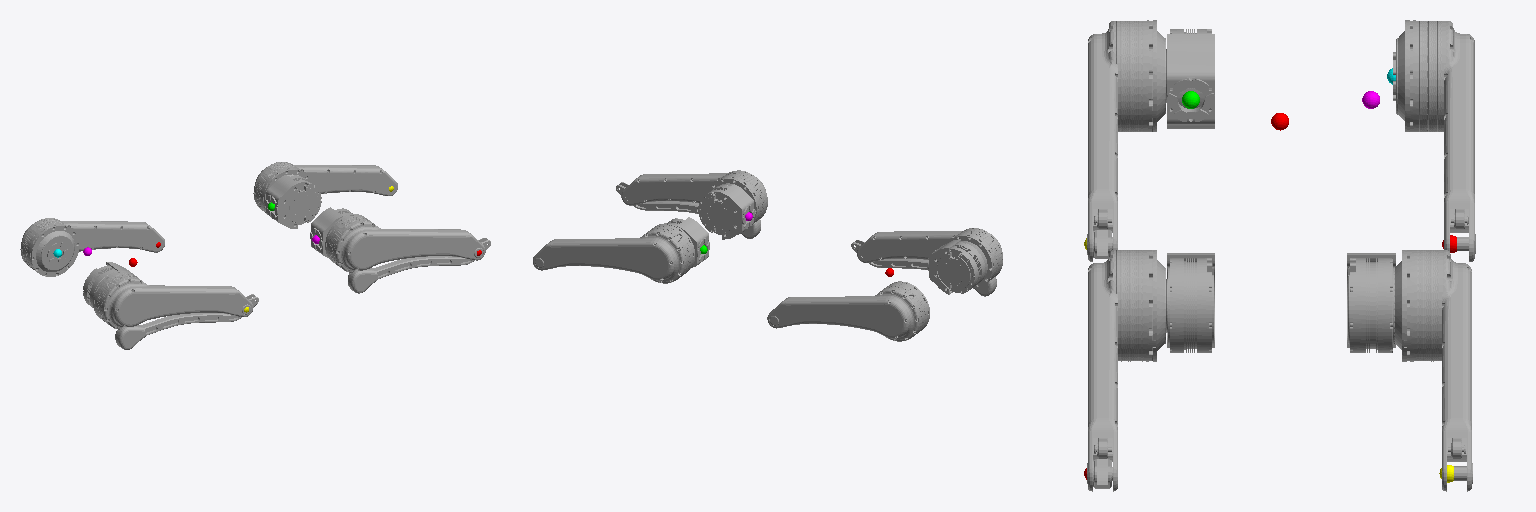
The robot description file, URDF, robot "urdf_assembly_v3_with_debug":
<?xml version="1.0" ?>
<robot name="urdf_assembly_v3_with_debug">
  
  
  <material name="silver">
    
    
    <color rgba="0.700 0.700 0.700 1.000"/>
    
  
  </material>
  
  
  <link name="trunk">
    
    
    <inertial>
      
      
      <origin rpy="0 0 0" xyz="0.1800021613389532 0.0011059001342642709 0.0032914802932821853"/>
      
      
      <mass value="14.375726822970043"/>
      
      
      <inertia ixx="0.191138" ixy="-3.4e-05" ixz="-2e-06" iyy="0.40265" iyz="-0.0" izz="0.515858"/>
      
    
    </inertial>
    
    
    <visual>
      
      
      <origin rpy="0 0 0" xyz="0 0 0"/>
      
      
      <geometry>
        
        
        <mesh filename="meshes/trunk.stl" scale="0.001 0.001 0.001"/>
        
      
      </geometry>
      
      
      <material name="silver"/>
      
    
    </visual>
    
    
    <collision>
      
      
      <origin rpy="0 0 0" xyz="0 0 0"/>
      
      
      <geometry>
        
        
        <mesh filename="meshes/trunk.stl" scale="0.001 0.001 0.001"/>
        
      
      </geometry>
      
    
    </collision>
    
  
  </link>
  
  
  <link name="FL_hip">
    
    
    <inertial>
      
      
      <origin rpy="0 0 0" xyz="-0.04712748510646356 0.0003722506842882972 -2.7333568612490904e-06"/>
      
      
      <mass value="1.4229579632997589"/>
      
      
      <inertia ixx="0.001778" ixy="1e-05" ixz="-0.0" iyy="0.002877" iyz="0.0" izz="0.002097"/>
      
    
    </inertial>
    
    
    <visual>
      
      
      <origin rpy="0 0 0" xyz="0.059 0.098894 0.00113"/>
      
      
      <geometry>
        
        
        <mesh filename="meshes/FL_hip.stl" scale="0.001 0.001 0.001"/>
        
      
      </geometry>
      
      
      <material name="silver"/>
      
    
    </visual>
    
    
    <collision>
      
      
      <origin rpy="0 0 0" xyz="0.059 0.098894 0.00113"/>
      
      
      <geometry>
        
        
        <mesh filename="meshes/FL_hip.stl" scale="0.001 0.001 0.001"/>
        
      
      </geometry>
      
    
    </collision>
    
  
  </link>
  
  
  <link name="RL_hip">
    
    
    <inertial>
      
      
      <origin rpy="0 0 0" xyz="0.047127485106463585 0.0003722506842885609 2.1944325753497397e-06"/>
      
      
      <mass value="1.4229579632997589"/>
      
      
      <inertia ixx="0.001778" ixy="-1e-05" ixz="-0.0" iyy="0.002877" iyz="-0.0" izz="0.002097"/>
      
    
    </inertial>
    
    
    <visual>
      
      
      <origin rpy="0 0 0" xyz="-0.419 0.098894 0.00113"/>
      
      
      <geometry>
        
        
        <mesh filename="meshes/RL_hip.stl" scale="0.001 0.001 0.001"/>
        
      
      </geometry>
      
      
      <material name="silver"/>
      
    
    </visual>
    
    
    <collision>
      
      
      <origin rpy="0 0 0" xyz="-0.419 0.098894 0.00113"/>
      
      
      <geometry>
        
        
        <mesh filename="meshes/RL_hip.stl" scale="0.001 0.001 0.001"/>
        
      
      </geometry>
      
    
    </collision>
    
  
  </link>
  
  
  <link name="RR_hip">
    
    
    <inertial>
      
      
      <origin rpy="0 0 0" xyz="0.047127485106463585 -0.00037238356285085317 -2.7333568615806395e-06"/>
      
      
      <mass value="1.4229579632997589"/>
      
      
      <inertia ixx="0.001778" ixy="1e-05" ixz="0.0" iyy="0.002877" iyz="-0.0" izz="0.002097"/>
      
    
    </inertial>
    
    
    <visual>
      
      
      <origin rpy="0 0 0" xyz="-0.419 -0.101106 0.00113"/>
      
      
      <geometry>
        
        
        <mesh filename="meshes/RR_hip.stl" scale="0.001 0.001 0.001"/>
        
      
      </geometry>
      
      
      <material name="silver"/>
      
    
    </visual>
    
    
    <collision>
      
      
      <origin rpy="0 0 0" xyz="-0.419 -0.101106 0.00113"/>
      
      
      <geometry>
        
        
        <mesh filename="meshes/RR_hip.stl" scale="0.001 0.001 0.001"/>
        
      
      </geometry>
      
    
    </collision>
    
  
  </link>
  
  
  <link name="FR_hip">
    
    
    <inertial>
      
      
      <origin rpy="0 0 0" xyz="-0.047127485106463377 -0.0003723835628505895 2.1944325754588104e-06"/>
      
      
      <mass value="1.4229579632997589"/>
      
      
      <inertia ixx="0.001778" ixy="-1e-05" ixz="0.0" iyy="0.002877" iyz="0.0" izz="0.002097"/>
      
    
    </inertial>
    
    
    <visual>
      
      
      <origin rpy="0 0 0" xyz="0.059 -0.101106 0.00113"/>
      
      
      <geometry>
        
        
        <mesh filename="meshes/FR_hip.stl" scale="0.001 0.001 0.001"/>
        
      
      </geometry>
      
      
      <material name="silver"/>
      
    
    </visual>
    
    
    <collision>
      
      
      <origin rpy="0 0 0" xyz="0.059 -0.101106 0.00113"/>
      
      
      <geometry>
        
        
        <mesh filename="meshes/FR_hip.stl" scale="0.001 0.001 0.001"/>
        
      
      </geometry>
      
    
    </collision>
    
  
  </link>
  
  
  <link name="FR_thigh">
    
    
    <inertial>
      
      
      <origin rpy="0 0 0" xyz="0.0723267875785904 0.05280562735978048 -0.011617450257010158"/>
      
      
      <mass value="3.186290673790848"/>
      
      
      <inertia ixx="0.006003" ixy="-0.004158" ixz="0.006003" iyy="0.038807" iyz="0.000665" izz="0.037457"/>
      
    
    </inertial>
    
    
    <visual>
      
      
      <origin rpy="0 0 0" xyz="0.121 -0.128506 0.00113"/>
      
      
      <geometry>
        
        
        <mesh filename="meshes/FR_thigh.stl" scale="0.001 0.001 0.001"/>
        
      
      </geometry>
      
      
      <material name="silver"/>
      
    
    </visual>
    
    
    <collision>
      
      
      <origin rpy="0 0 0" xyz="0.121 -0.128506 0.00113"/>
      
      
      <geometry>
        
        
        <mesh filename="meshes/FR_thigh.stl" scale="0.001 0.001 0.001"/>
        
      
      </geometry>
      
    
    </collision>
    
  
  </link>
  
  
  <link name="RR_thigh">
    
    
    <inertial>
      
      
      <origin rpy="0 0 0" xyz="0.07232678757859057 0.05280562735978023 -0.011617450257010217"/>
      
      
      <mass value="3.186290673790848"/>
      
      
      <inertia ixx="0.006003" ixy="-0.004158" ixz="0.006003" iyy="0.038807" iyz="0.000665" izz="0.037457"/>
      
    
    </inertial>
    
    
    <visual>
      
      
      <origin rpy="0 0 0" xyz="-0.481 -0.125506 0.00113"/>
      
      
      <geometry>
        
        
        <mesh filename="meshes/RR_thigh.stl" scale="0.001 0.001 0.001"/>
        
      
      </geometry>
      
      
      <material name="silver"/>
      
    
    </visual>
    
    
    <collision>
      
      
      <origin rpy="0 0 0" xyz="-0.481 -0.125506 0.00113"/>
      
      
      <geometry>
        
        
        <mesh filename="meshes/RR_thigh.stl" scale="0.001 0.001 0.001"/>
        
      
      </geometry>
      
    
    </collision>
    
  
  </link>
  
  
  <link name="FL_thigh">
    
    
    <inertial>
      
      
      <origin rpy="0 0 0" xyz="0.07232674753619493 -0.0528058077448893 -0.011617554994350625"/>
      
      
      <mass value="3.186293993152985"/>
      
      
      <inertia ixx="0.006004" ixy="0.004158" ixz="0.006003" iyy="0.038808" iyz="-0.000665" izz="0.037457"/>
      
    
    </inertial>
    
    
    <visual>
      
      
      <origin rpy="0 0 0" xyz="0.121 0.126294 0.00113"/>
      
      
      <geometry>
        
        
        <mesh filename="meshes/FL_thigh.stl" scale="0.001 0.001 0.001"/>
        
      
      </geometry>
      
      
      <material name="silver"/>
      
    
    </visual>
    
    
    <collision>
      
      
      <origin rpy="0 0 0" xyz="0.121 0.126294 0.00113"/>
      
      
      <geometry>
        
        
        <mesh filename="meshes/FL_thigh.stl" scale="0.001 0.001 0.001"/>
        
      
      </geometry>
      
    
    </collision>
    
  
  </link>
  
  
  <link name="RL_thigh">
    
    
    <inertial>
      
      
      <origin rpy="0 0 0" xyz="0.07232674753619539 -0.05280580774488977 -0.011617554994351062"/>
      
      
      <mass value="3.186293993152985"/>
      
      
      <inertia ixx="0.006004" ixy="0.004158" ixz="0.006003" iyy="0.038808" iyz="-0.000665" izz="0.037457"/>
      
    
    </inertial>
    
    
    <visual>
      
      
      <origin rpy="0 0 0" xyz="-0.481 0.126294 0.00113"/>
      
      
      <geometry>
        
        
        <mesh filename="meshes/RL_thigh.stl" scale="0.001 0.001 0.001"/>
        
      
      </geometry>
      
      
      <material name="silver"/>
      
    
    </visual>
    
    
    <collision>
      
      
      <origin rpy="0 0 0" xyz="-0.481 0.126294 0.00113"/>
      
      
      <geometry>
        
        
        <mesh filename="meshes/RL_thigh.stl" scale="0.001 0.001 0.001"/>
        
      
      </geometry>
      
    
    </collision>
    
  
  </link>
  
  
  <link name="RR_calf">
    
    
    <inertial>
      
      
      <origin rpy="0 0 0" xyz="-0.18994374987583984 0.010221770184848933 -0.0024036526524070234"/>
      
      
      <mass value="1.3184155959034713"/>
      
      
      <inertia ixx="0.000241" ixy="3.5e-05" ixz="7.2e-05" iyy="0.016862" iyz="-6e-06" izz="0.016741"/>
      
    
    </inertial>
    
    
    <visual>
      
      
      <origin rpy="0 0 0" xyz="-0.170833 0.207494 0.070655"/>
      
      
      <geometry>
        
        
        <mesh filename="meshes/link_12_1.stl" scale="0.001 0.001 0.001"/>
        
      
      </geometry>
      
      
      <material name="silver"/>
      
    
    </visual>
    
    
    <collision>
      
      
      <origin rpy="0 0 0" xyz="-1.248282 -0.334712 0.117494"/>
      
      
      <geometry>
        
        
        <mesh filename="meshes/link_12_1.stl" scale="0.001 0.001 0.001"/>
        
      
      </geometry>
      
    
    </collision>
    
  
  </link>
  
  
  <link name="FR_calf">
    
    
    <inertial>
      
      
      <origin rpy="0 0 0" xyz="-0.06445278680522881 -0.1414279096447857 0.00873334027918321"/>
      
      
      <mass value="1.3184155959034713"/>
      
      
      <inertia ixx="0.000241" ixy="3.5e-05" ixz="7.2e-05" iyy="0.016862" iyz="-6e-06" izz="0.016741"/>
      
    
    </inertial>
    
    
    <visual>
      
      
      <origin rpy="0 0 0" xyz="-0.772833 0.207494 0.070655"/>
      
      
      <geometry>
        
        
        <mesh filename="meshes/link_11_1.stl" scale="0.001 0.001 0.001"/>
        
      
      </geometry>
      
      
      <material name="silver"/>
      
    
    </visual>
    
    
    <collision>
      
      
      <origin rpy="0 0 0" xyz="-0.772833 0.207494 0.070655"/>
      
      
      <geometry>
        
        
        <mesh filename="meshes/link_11_1.stl" scale="0.001 0.001 0.001"/>
        
      
      </geometry>
      
    
    </collision>
    
  
  </link>
  
  
  <link name="RL_calf">
    
    
    <inertial>
      
      
      <origin rpy="0 0 0" xyz="-0.06445278680522881 -0.1414279096447857 0.00873334027918321"/>
      
      
      <mass value="1.3184147451033323"/>
      
      
      <inertia ixx="0.000241" ixy="-3.5e-05" ixz="7.2e-05" iyy="0.016862" iyz="6e-06" izz="0.016741"/>
      
    
    </inertial>
    
    
    <visual>
      
      
      <origin rpy="0 0 0" xyz="-0.772833 0.207494 0.070655"/>
      
      
      <geometry>
        
        
        <mesh filename="meshes/RL_calf.stl" scale="0.001 0.001 0.001"/>
        
      
      </geometry>
      
      
      <material name="silver"/>
      
    
    </visual>
    
    
    <collision>
      
      
      <origin rpy="0 0 0" xyz="-0.772833 0.207494 0.070655"/>
      
      
      <geometry>
        
        
        <mesh filename="meshes/RL_calf.stl" scale="0.001 0.001 0.001"/>
        
      
      </geometry>
      
    
    </collision>
    
  
  </link>
  
  
  <link name="FL_calf">
    
    
    <inertial>
      
      
      <origin rpy="0 0 0" xyz="-0.18994374987583984 0.010221770184848933 -0.0024036526524070234"/>
      
      
      <mass value="1.3184147451033323"/>
      
      
      <inertia ixx="0.000241" ixy="-3.5e-05" ixz="7.2e-05" iyy="0.016862" iyz="6e-06" izz="0.016741"/>
      
    
    </inertial>
    
    
    <visual>
      
      
      <origin rpy="0 0 0" xyz="-0.170833 0.207494 0.070655"/>
      
      
      <geometry>
        
        
        <mesh filename="meshes/FL_calf.stl" scale="0.001 0.001 0.001"/>
        
      
      </geometry>
      
      
      <material name="silver"/>
      
    
    </visual>
    
    
    <collision>
      
      
      <origin rpy="0 0 0" xyz="-0.170833 0.207494 0.070655"/>
      
      
      <geometry>
        
        
        <mesh filename="meshes/FL_calf.stl" scale="0.001 0.001 0.001"/>
        
      
      </geometry>
      
    
    </collision>
    
  
  </link>
  
  
  <joint name="Revolute_1" type="continuous">
    
    
    <origin rpy="0 0 0" xyz="-0.059 -0.098894 -0.00113"/>
    
    
    <parent link="trunk"/>
    
    
    <child link="FL_hip"/>
    
    
    <axis xyz="-1.0 0.0 0.0"/>
    
  
  </joint>
  
  
  <joint name="Revolute_2" type="continuous">
    
    
    <origin rpy="0 0 0" xyz="0.419 -0.098894 -0.00113"/>
    
    
    <parent link="trunk"/>
    
    
    <child link="RL_hip"/>
    
    
    <axis xyz="1.0 -0.0 -0.0"/>
    
  
  </joint>
  
  
  <joint name="Revolute_3" type="continuous">
    
    
    <origin rpy="0 0 0" xyz="0.419 0.101106 -0.00113"/>
    
    
    <parent link="trunk"/>
    
    
    <child link="RR_hip"/>
    
    
    <axis xyz="1.0 -0.0 0.0"/>
    
  
  </joint>
  
  
  <joint name="Revolute_4" type="continuous">
    
    
    <origin rpy="0 0 0" xyz="-0.059 0.101106 -0.00113"/>
    
    
    <parent link="trunk"/>
    
    
    <child link="FR_hip"/>
    
    
    <axis xyz="-1.0 0.0 -0.0"/>
    
  
  </joint>
  
  
  <joint name="Revolute_5" type="continuous">
    
    
    <origin rpy="0 0 0" xyz="-0.062 0.0274 0.0"/>
    
    
    <parent link="FR_hip"/>
    
    
    <child link="FR_thigh"/>
    
    
    <axis xyz="0.0 1.0 -0.0"/>
    
  
  </joint>
  
  
  <joint name="Revolute_6" type="continuous">
    
    
    <origin rpy="0 0 0" xyz="0.062 0.0244 0.0"/>
    
    
    <parent link="RR_hip"/>
    
    
    <child link="RR_thigh"/>
    
    
    <axis xyz="-0.0 1.0 0.0"/>
    
  
  </joint>
  
  
  <joint name="Revolute_7" type="continuous">
    
    
    <origin rpy="0 0 0" xyz="-0.062 -0.0274 0.0"/>
    
    
    <parent link="FL_hip"/>
    
    
    <child link="FL_thigh"/>
    
    
    <axis xyz="0.0 -1.0 -0.0"/>
    
  
  </joint>
  
  
  <joint name="Revolute_8" type="continuous">
    
    
    <origin rpy="0 0 0" xyz="0.062 -0.0274 0.0"/>
    
    
    <parent link="RL_hip"/>
    
    
    <child link="RL_thigh"/>
    
    
    <axis xyz="-0.0 -1.0 -0.0"/>
    
  
  </joint>
  
  
  <joint name="Revolute_11" type="continuous">
    
    
    <origin rpy="0 0 0" xyz="0.291833 -0.0812 -0.069525"/>
    
    
    <parent link="FL_thigh"/>
    
    
    <child link="FL_calf"/>
    
    
    <axis xyz="-0.0 1.0 0.0"/>
    
  
  </joint>
  
  
  <joint name="Revolute_12" type="continuous">
    
    
    <origin rpy="0 0 0" xyz="0.291833 -0.0812 -0.069525"/>
    
    
    <parent link="RL_thigh"/>
    
    
    <child link="RL_calf"/>
    
    
    <axis xyz="-0.0 1.0 0.0"/>
    
  
  </joint>
  
  
  <joint name="Revolute_9" type="continuous">
    
    
    <origin rpy="0 0 0" xyz="0.291833 0.0612 -0.069525"/>
    
    
    <parent link="RR_thigh"/>
    
    
    <child link="RR_calf"/>
    
    
    <axis xyz="0.0 1.0 0.0"/>
    
  
  </joint>
  
  
  <joint name="Revolute_10" type="continuous">
    
    
    <origin rpy="0 0 0" xyz="0.291833 0.0612 -0.069525"/>
    
    
    <parent link="FR_thigh"/>
    
    
    <child link="FR_calf"/>
    
    
    <axis xyz="0.0 1.0 -0.0"/>
    
  
  </joint>
  

  <material name="dbg_col_0">
    <color rgba="1.000000 0.000000 0.000000 1.000000"/>
  </material>
  <material name="dbg_col_1">
    <color rgba="0.000000 1.000000 0.000000 1.000000"/>
  </material>
  <material name="dbg_col_2">
    <color rgba="0.000000 0.000000 1.000000 1.000000"/>
  </material>
  <material name="dbg_col_3">
    <color rgba="1.000000 1.000000 0.000000 1.000000"/>
  </material>
  <material name="dbg_col_4">
    <color rgba="1.000000 0.000000 1.000000 1.000000"/>
  </material>
  <material name="dbg_col_5">
    <color rgba="0.000000 1.000000 1.000000 1.000000"/>
  </material>
  <link name="debug_points_root"/>
  <joint name="fix_debug_points_root_to_trunk" type="fixed">
    <parent link="trunk"/>
    <child link="debug_points_root"/>
    <origin xyz="0 0 0" rpy="0 0 0"/>
  </joint>
  <link name="dbg_pt_0_trunk">
    <visual name="vis_dbg_pt_0_trunk">
      <origin xyz="0 0 0" rpy="0 0 0"/>
      <geometry>
        <sphere radius="0.010000"/>
      </geometry>
      <material name="dbg_col_0"/>
    </visual>
  </link>
  <joint name="fix_world_to_dbg_pt_0_trunk" type="fixed">
    <parent link="debug_points_root"/>
    <child link="dbg_pt_0_trunk"/>
    <origin xyz="0.000000000 0.000000000 0.000000000" rpy="0 0 0"/>
  </joint>
  <link name="dbg_pt_1_FL_hip">
    <visual name="vis_dbg_pt_1_FL_hip">
      <origin xyz="0 0 0" rpy="0 0 0"/>
      <geometry>
        <sphere radius="0.010000"/>
      </geometry>
      <material name="dbg_col_1"/>
    </visual>
  </link>
  <joint name="fix_world_to_dbg_pt_1_FL_hip" type="fixed">
    <parent link="debug_points_root"/>
    <child link="dbg_pt_1_FL_hip"/>
    <origin xyz="-0.059000000 -0.098894000 -0.001130000" rpy="0 0 0"/>
  </joint>
  <link name="dbg_pt_2_FL_thigh">
    <visual name="vis_dbg_pt_2_FL_thigh">
      <origin xyz="0 0 0" rpy="0 0 0"/>
      <geometry>
        <sphere radius="0.010000"/>
      </geometry>
      <material name="dbg_col_2"/>
    </visual>
  </link>
  <joint name="fix_world_to_dbg_pt_2_FL_thigh" type="fixed">
    <parent link="debug_points_root"/>
    <child link="dbg_pt_2_FL_thigh"/>
    <origin xyz="-0.121000000 -0.126294000 -0.001130000" rpy="0 0 0"/>
  </joint>
  <link name="dbg_pt_3_FL_calf">
    <visual name="vis_dbg_pt_3_FL_calf">
      <origin xyz="0 0 0" rpy="0 0 0"/>
      <geometry>
        <sphere radius="0.010000"/>
      </geometry>
      <material name="dbg_col_3"/>
    </visual>
  </link>
  <joint name="fix_world_to_dbg_pt_3_FL_calf" type="fixed">
    <parent link="debug_points_root"/>
    <child link="dbg_pt_3_FL_calf"/>
    <origin xyz="0.170833000 -0.207494000 -0.070655000" rpy="0 0 0"/>
  </joint>
  <link name="dbg_pt_4_RL_hip">
    <visual name="vis_dbg_pt_4_RL_hip">
      <origin xyz="0 0 0" rpy="0 0 0"/>
      <geometry>
        <sphere radius="0.010000"/>
      </geometry>
      <material name="dbg_col_4"/>
    </visual>
  </link>
  <joint name="fix_world_to_dbg_pt_4_RL_hip" type="fixed">
    <parent link="debug_points_root"/>
    <child link="dbg_pt_4_RL_hip"/>
    <origin xyz="0.419000000 -0.098894000 -0.001130000" rpy="0 0 0"/>
  </joint>
  <link name="dbg_pt_5_RL_thigh">
    <visual name="vis_dbg_pt_5_RL_thigh">
      <origin xyz="0 0 0" rpy="0 0 0"/>
      <geometry>
        <sphere radius="0.010000"/>
      </geometry>
      <material name="dbg_col_5"/>
    </visual>
  </link>
  <joint name="fix_world_to_dbg_pt_5_RL_thigh" type="fixed">
    <parent link="debug_points_root"/>
    <child link="dbg_pt_5_RL_thigh"/>
    <origin xyz="0.481000000 -0.126294000 -0.001130000" rpy="0 0 0"/>
  </joint>
  <link name="dbg_pt_6_RL_calf">
    <visual name="vis_dbg_pt_6_RL_calf">
      <origin xyz="0 0 0" rpy="0 0 0"/>
      <geometry>
        <sphere radius="0.010000"/>
      </geometry>
      <material name="dbg_col_0"/>
    </visual>
  </link>
  <joint name="fix_world_to_dbg_pt_6_RL_calf" type="fixed">
    <parent link="debug_points_root"/>
    <child link="dbg_pt_6_RL_calf"/>
    <origin xyz="0.772833000 -0.207494000 -0.070655000" rpy="0 0 0"/>
  </joint>
  <link name="dbg_pt_7_RR_hip">
    <visual name="vis_dbg_pt_7_RR_hip">
      <origin xyz="0 0 0" rpy="0 0 0"/>
      <geometry>
        <sphere radius="0.010000"/>
      </geometry>
      <material name="dbg_col_1"/>
    </visual>
  </link>
  <joint name="fix_world_to_dbg_pt_7_RR_hip" type="fixed">
    <parent link="debug_points_root"/>
    <child link="dbg_pt_7_RR_hip"/>
    <origin xyz="0.419000000 0.101106000 -0.001130000" rpy="0 0 0"/>
  </joint>
  <link name="dbg_pt_8_RR_thigh">
    <visual name="vis_dbg_pt_8_RR_thigh">
      <origin xyz="0 0 0" rpy="0 0 0"/>
      <geometry>
        <sphere radius="0.010000"/>
      </geometry>
      <material name="dbg_col_2"/>
    </visual>
  </link>
  <joint name="fix_world_to_dbg_pt_8_RR_thigh" type="fixed">
    <parent link="debug_points_root"/>
    <child link="dbg_pt_8_RR_thigh"/>
    <origin xyz="0.481000000 0.125506000 -0.001130000" rpy="0 0 0"/>
  </joint>
  <link name="dbg_pt_9_RR_calf">
    <visual name="vis_dbg_pt_9_RR_calf">
      <origin xyz="0 0 0" rpy="0 0 0"/>
      <geometry>
        <sphere radius="0.010000"/>
      </geometry>
      <material name="dbg_col_3"/>
    </visual>
  </link>
  <joint name="fix_world_to_dbg_pt_9_RR_calf" type="fixed">
    <parent link="debug_points_root"/>
    <child link="dbg_pt_9_RR_calf"/>
    <origin xyz="0.772833000 0.186706000 -0.070655000" rpy="0 0 0"/>
  </joint>
  <link name="dbg_pt_10_FR_hip">
    <visual name="vis_dbg_pt_10_FR_hip">
      <origin xyz="0 0 0" rpy="0 0 0"/>
      <geometry>
        <sphere radius="0.010000"/>
      </geometry>
      <material name="dbg_col_4"/>
    </visual>
  </link>
  <joint name="fix_world_to_dbg_pt_10_FR_hip" type="fixed">
    <parent link="debug_points_root"/>
    <child link="dbg_pt_10_FR_hip"/>
    <origin xyz="-0.059000000 0.101106000 -0.001130000" rpy="0 0 0"/>
  </joint>
  <link name="dbg_pt_11_FR_thigh">
    <visual name="vis_dbg_pt_11_FR_thigh">
      <origin xyz="0 0 0" rpy="0 0 0"/>
      <geometry>
        <sphere radius="0.010000"/>
      </geometry>
      <material name="dbg_col_5"/>
    </visual>
  </link>
  <joint name="fix_world_to_dbg_pt_11_FR_thigh" type="fixed">
    <parent link="debug_points_root"/>
    <child link="dbg_pt_11_FR_thigh"/>
    <origin xyz="-0.121000000 0.128506000 -0.001130000" rpy="0 0 0"/>
  </joint>
  <link name="dbg_pt_12_FR_calf">
    <visual name="vis_dbg_pt_12_FR_calf">
      <origin xyz="0 0 0" rpy="0 0 0"/>
      <geometry>
        <sphere radius="0.010000"/>
      </geometry>
      <material name="dbg_col_0"/>
    </visual>
  </link>
  <joint name="fix_world_to_dbg_pt_12_FR_calf" type="fixed">
    <parent link="debug_points_root"/>
    <child link="dbg_pt_12_FR_calf"/>
    <origin xyz="0.170833000 0.189706000 -0.070655000" rpy="0 0 0"/>
  </joint>
</robot>

--- What the picture shows (computed from the rendered views, not written in the file) ---
3 views of the same robot in one strip: view 1: azimuth 30°, elevation 25°; view 2: azimuth 150°, elevation 25°; view 3: azimuth 270°, elevation 25° (orthographic).
Robot: urdf_assembly_v3_with_debug — 27 links, 26 joints (12 continuous, 14 fixed); root link trunk; default pose: every joint at zero.
Visible links, largest first — view 1: RL_thigh, FL_thigh, FR_thigh, RR_thigh, RR_hip, RL_calf, FL_calf, RL_hip, FL_hip; view 2: FR_thigh, RR_thigh, FL_thigh, RL_thigh, FL_hip, RL_hip, RL_calf, FL_calf, RR_hip; view 3: FR_thigh, RR_thigh, RL_thigh, FL_thigh, RL_hip, RR_hip, FL_hip, RL_calf.
Link boxes in pixels (x1,y1,x2,y2): RL_thigh: (325,214,485,272); FL_thigh: (93,271,253,329); FR_thigh: (20,218,164,276); RR_thigh: (253,162,397,213); RR_hip: (265,175,321,228); RL_calf: (348,238,490,293); FL_calf: (115,294,258,349); RL_hip: (310,207,352,257); FL_hip: (83,262,136,307); FR_thigh: (767,281,929,341); RR_thigh: (533,223,694,283); FL_thigh: (857,228,1002,287); RL_thigh: (621,170,767,222); FL_hip: (928,239,984,294); RL_hip: (698,184,755,239); RL_calf: (616,182,760,238); FL_calf: (851,240,996,296); RR_hip: (667,217,709,267); FR_thigh: (1393,20,1475,261); RR_thigh: (1394,250,1472,491); RL_thigh: (1087,250,1165,491); FL_thigh: (1087,20,1165,261); RL_hip: (1166,253,1214,352); RR_hip: (1347,253,1395,352); FL_hip: (1166,29,1214,128); RL_calf: (1093,459,1111,488).
Size in the robot's own frame: 0.9935 by 0.4345 by 0.1644 metres.
9 mesh visuals loaded from 13 distinct referenced files (9 binary STL); not drawn: 4 (reference not matched to a file when rendering).
